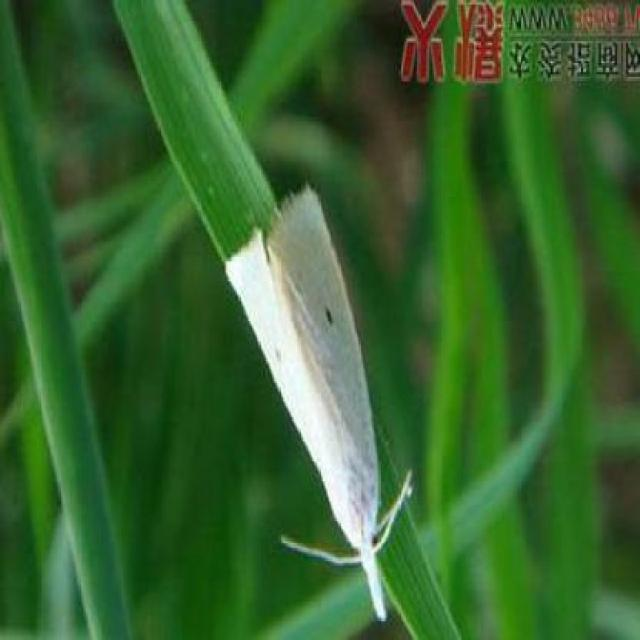stem-borer: (222, 180, 415, 626)
